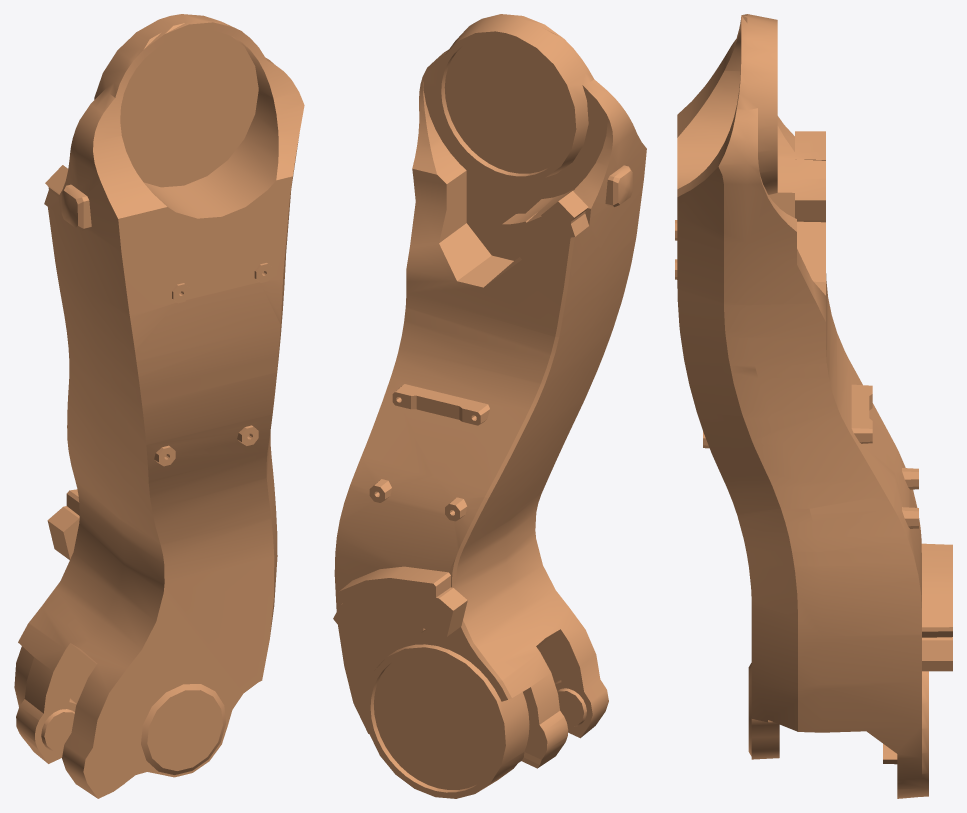
3 views of the same model, side by side, from view 1: azimuth 30°, elevation 25°; view 2: azimuth 150°, elevation 25°; view 3: azimuth 270°, elevation 25° (orthographic). The views are drawn at different scales.
Parts seen in each view (by area): view 1: Link_2; view 2: Link_2; view 3: Link_2.
Boxes of the visible parts, x1,y1,x2,y2 form: Link_2: (14,14,304,798); Link_2: (333,14,646,798); Link_2: (675,14,952,798).
Size of the model in its own units: 0.4293 by 0.449 by 1.37.
